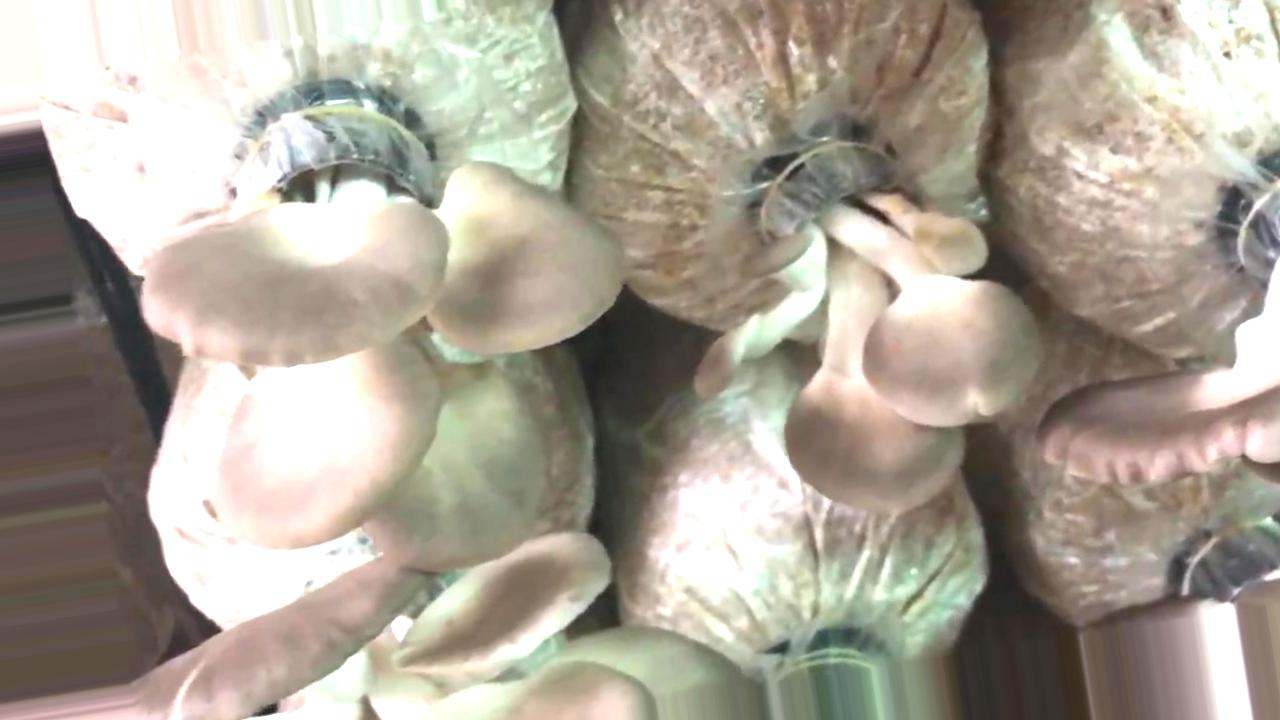nam: (132, 131, 630, 550), (693, 141, 1042, 527), (144, 528, 761, 720), (1041, 363, 1280, 487)
